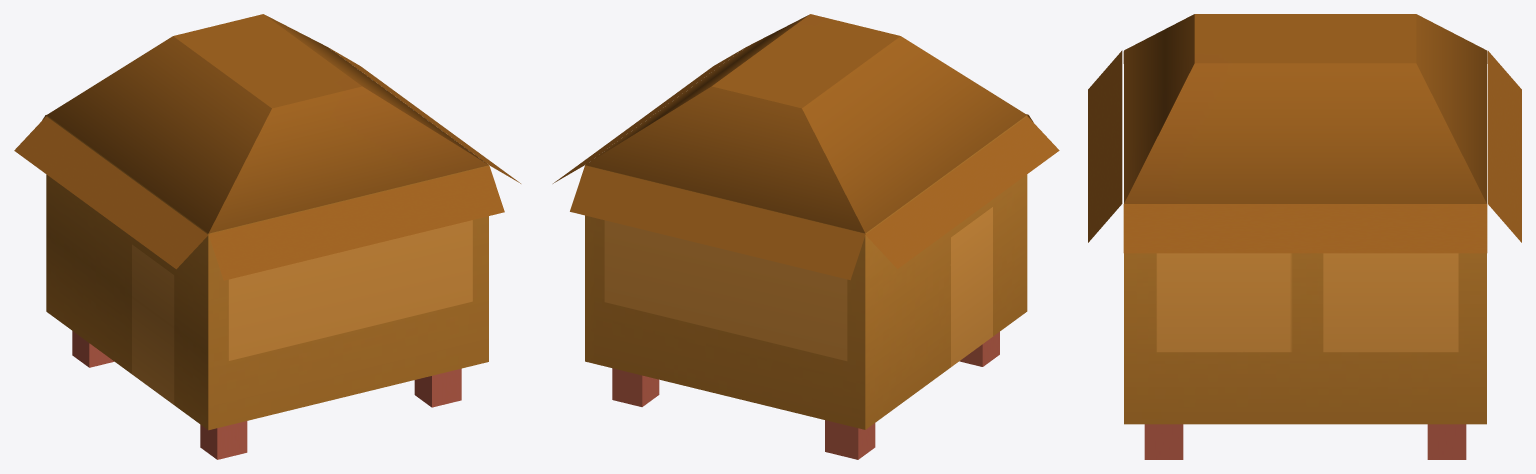
Rendered from Hut.fbx.
3 renders of one model, left to right at view 1: azimuth 30°, elevation 25°; view 2: azimuth 150°, elevation 25°; view 3: azimuth 270°, elevation 25°, orthographic. The views are drawn at different scales.
Visible parts, largest first — view 1: pCube14, pPlane31, pPlane29, pCube16, pCube15, pPlane28, pCube17; view 2: pCube14, pPlane30, pPlane29, pCube17, pCube18, pPlane28, pCube16; view 3: pCube14, pPlane28, pPlane30, pPlane31, pCube15, pCube18.
Boxes of the visible parts, x1=… form: pCube14: x1=46, y1=14, x2=488, y2=430; pPlane31: x1=208, y1=166, x2=504, y2=280; pPlane29: x1=14, y1=116, x2=209, y2=269; pCube16: x1=200, y1=421, x2=247, y2=459; pCube15: x1=414, y1=368, x2=461, y2=407; pPlane28: x1=328, y1=47, x2=520, y2=183; pCube17: x1=72, y1=331, x2=114, y2=367; pCube14: x1=585, y1=14, x2=1027, y2=429; pPlane30: x1=570, y1=165, x2=865, y2=280; pPlane29: x1=865, y1=116, x2=1059, y2=268; pCube17: x1=825, y1=420, x2=875, y2=459; pCube18: x1=612, y1=368, x2=659, y2=406; pPlane28: x1=553, y1=47, x2=745, y2=183; pCube16: x1=959, y1=332, x2=999, y2=366; pCube14: x1=1124, y1=14, x2=1486, y2=424; pPlane28: x1=1123, y1=204, x2=1487, y2=253; pPlane30: x1=1487, y1=50, x2=1521, y2=242; pPlane31: x1=1088, y1=50, x2=1122, y2=242; pCube15: x1=1144, y1=424, x2=1183, y2=459; pCube18: x1=1427, y1=424, x2=1466, y2=459.
Bounding box in the file's own units: 3.32 × 2.9 × 3.21.
Materials: 2 (2 with a texture image).
